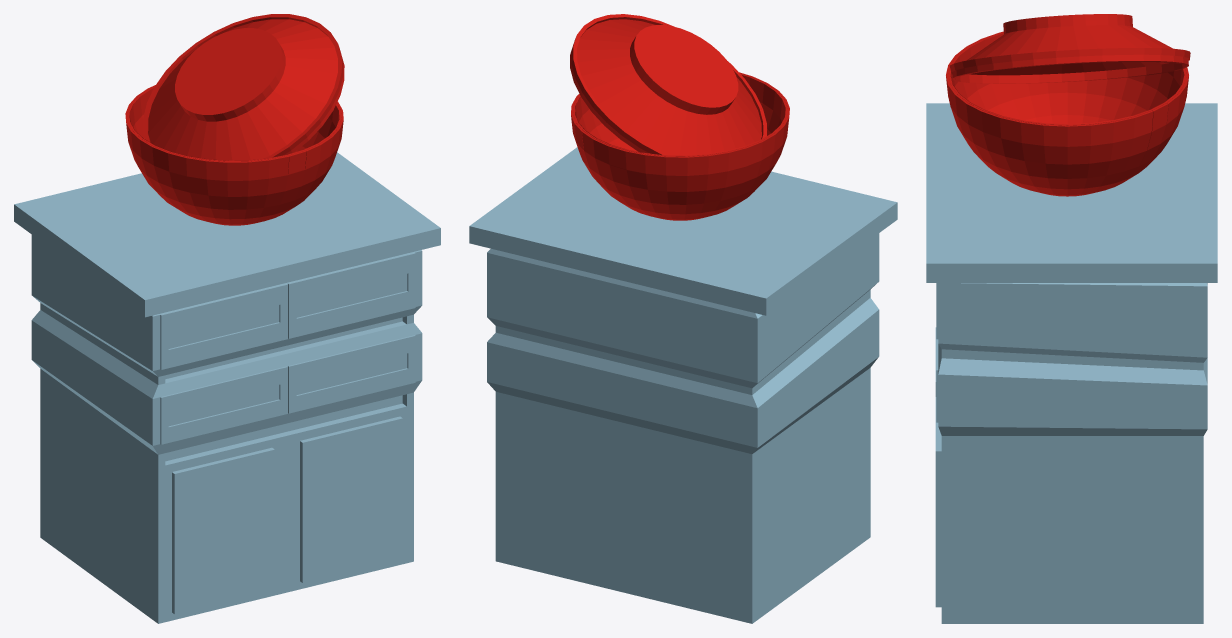
Rendered from salad_station.fbx.
3 renders of one model, left to right at view 1: azimuth 30°, elevation 25°; view 2: azimuth 150°, elevation 25°; view 3: azimuth 270°, elevation 25°, orthographic. The views are drawn at different scales.
Visible parts, largest first — view 1: counter, Sphere; view 2: counter, Sphere; view 3: counter, Sphere.
Boxes of the visible parts, box(x1,y1,x2,y2) form: counter: box(14, 152, 440, 623); Sphere: box(125, 14, 344, 225); counter: box(469, 147, 897, 623); Sphere: box(570, 14, 789, 220); counter: box(926, 103, 1217, 623); Sphere: box(946, 14, 1190, 196).
Bounding box in the file's own units: 863 × 1411 × 662.
